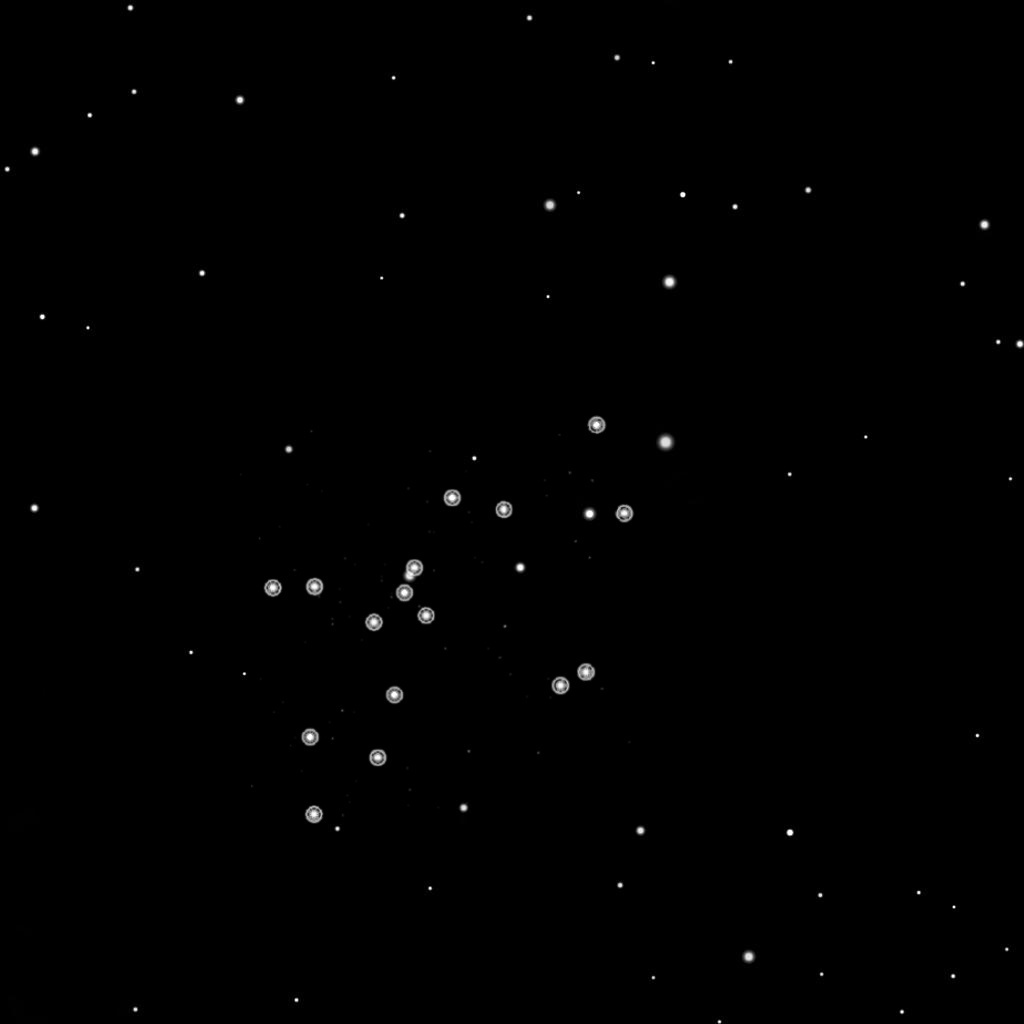canis_major: (354, 487, 520, 636)
